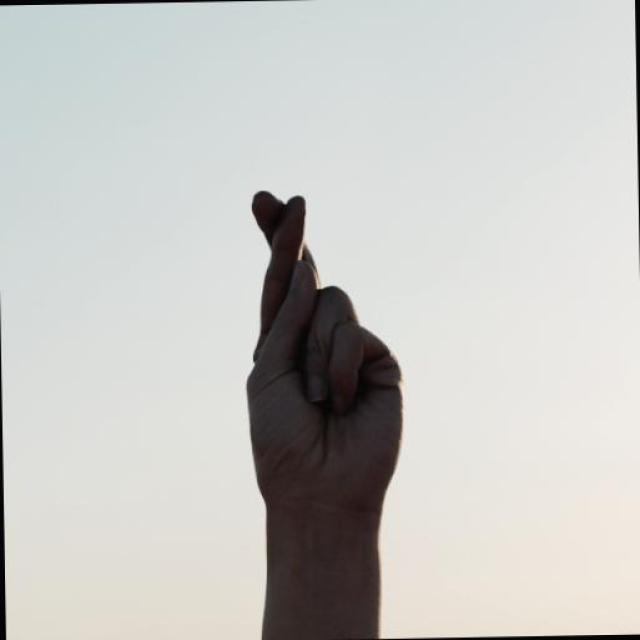R: (234, 178, 410, 524)
